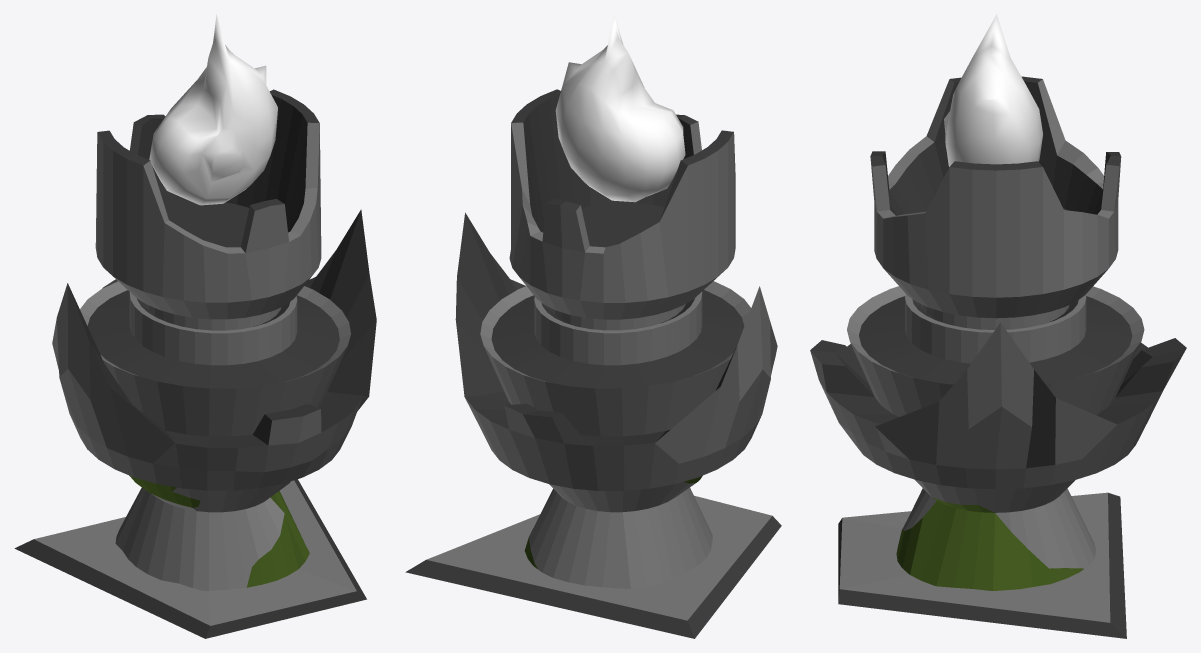
File: statue - wind.glb
3 renders of one model, left to right at view 1: azimuth 30°, elevation 25°; view 2: azimuth 150°, elevation 25°; view 3: azimuth 270°, elevation 25°, orthographic.
Parts seen in each view (by area): view 1: statue, Cube; view 2: statue, Cube; view 3: statue, Cube.
Boxes of the visible parts, x1,y1,x2,y2 form: statue: (14, 89, 376, 638); Cube: (149, 14, 277, 205); statue: (405, 89, 781, 638); Cube: (555, 14, 685, 202); statue: (810, 76, 1186, 638); Cube: (944, 14, 1042, 166).
Bounding box in the file's own units: 1.9 × 3.36 × 2.07.
